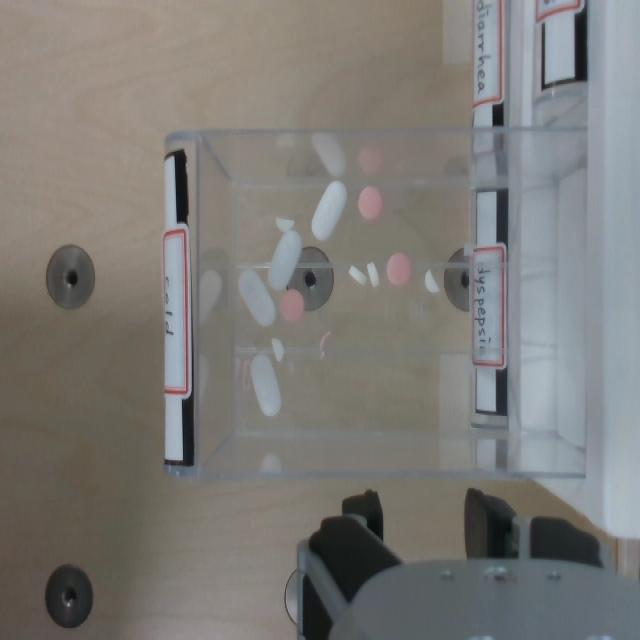amoxicle_tab: (238, 269, 275, 327), (311, 180, 346, 240), (250, 352, 281, 416), (268, 229, 301, 289)
panstar_tab: (357, 186, 382, 221), (386, 253, 411, 285), (280, 289, 304, 321)
sudafed_tab: (424, 269, 439, 292), (348, 265, 366, 284), (275, 216, 294, 232), (271, 337, 283, 361), (367, 263, 379, 287)
